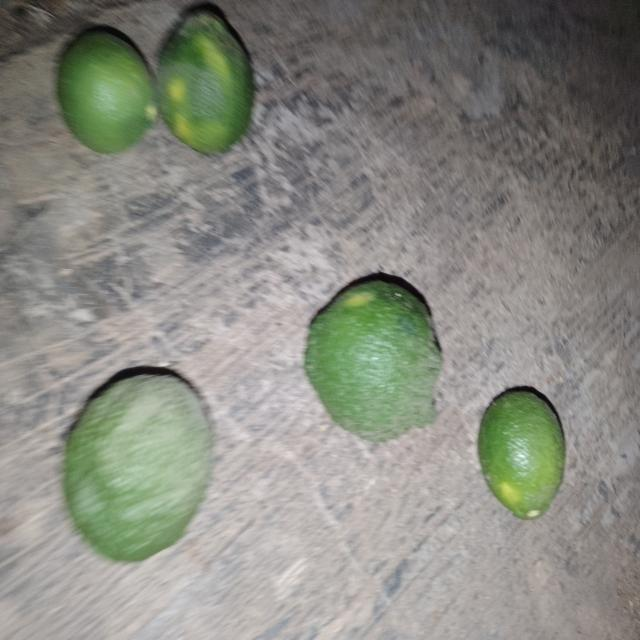Unripe: (54, 351, 220, 576), (292, 256, 465, 456), (152, 0, 268, 168), (48, 18, 168, 152)
